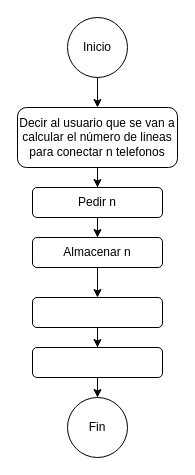
The diagram is 195 pixels wide and 475 high, and some of its shapes have lost their labels. Here are the shapes that lost their labels. From the top down, the centre of each, then its label:
At [97,312]: "Calcular lines = n(n-1)/2".
At [97,362]: "Imprimir lines".
